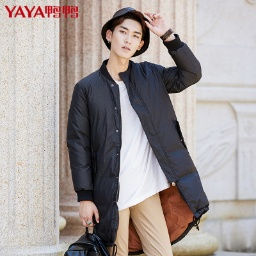face: (106, 13, 145, 60)
